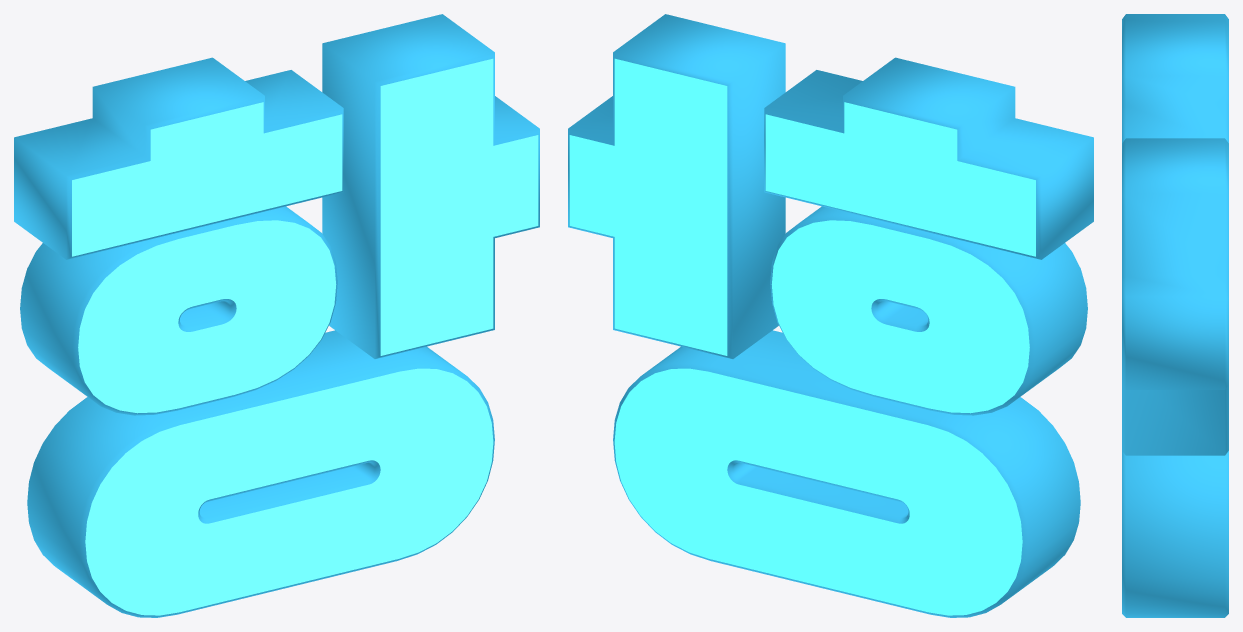
3 renders of one model, left to right at view 1: azimuth 30°, elevation 25°; view 2: azimuth 150°, elevation 25°; view 3: azimuth 270°, elevation 25°, orthographic. The views are drawn at different scales.
Parts seen in each view (by area): view 1: glyph; view 2: glyph; view 3: glyph.
Part boxes in pixels (bbox=[...]): glyph: bbox=[14, 14, 539, 617]; glyph: bbox=[568, 14, 1093, 617]; glyph: bbox=[1122, 14, 1228, 617].
Bounding box in the file's own units: 0.1087 × 0.1091 × 0.0225.
